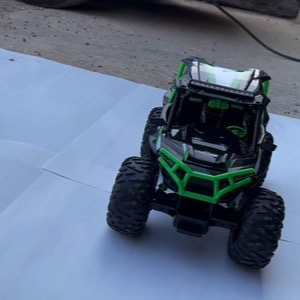polaris: (105, 55, 288, 272)
